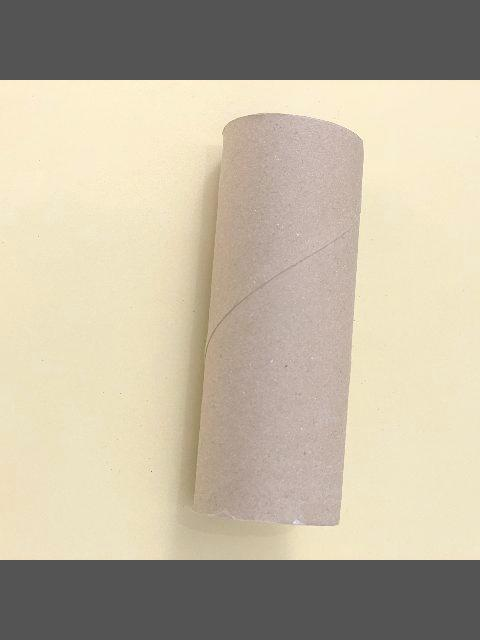tissueroll: (188, 112, 364, 528)
